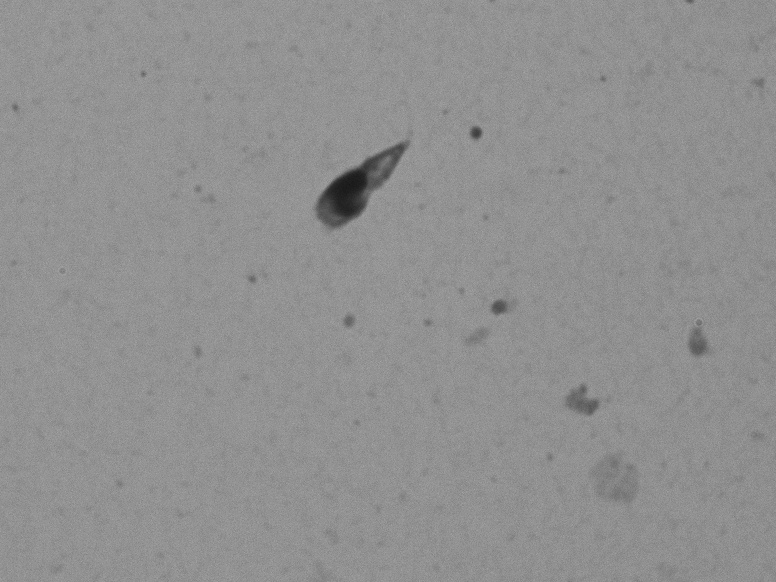Abnormal: (275, 98, 442, 238)
